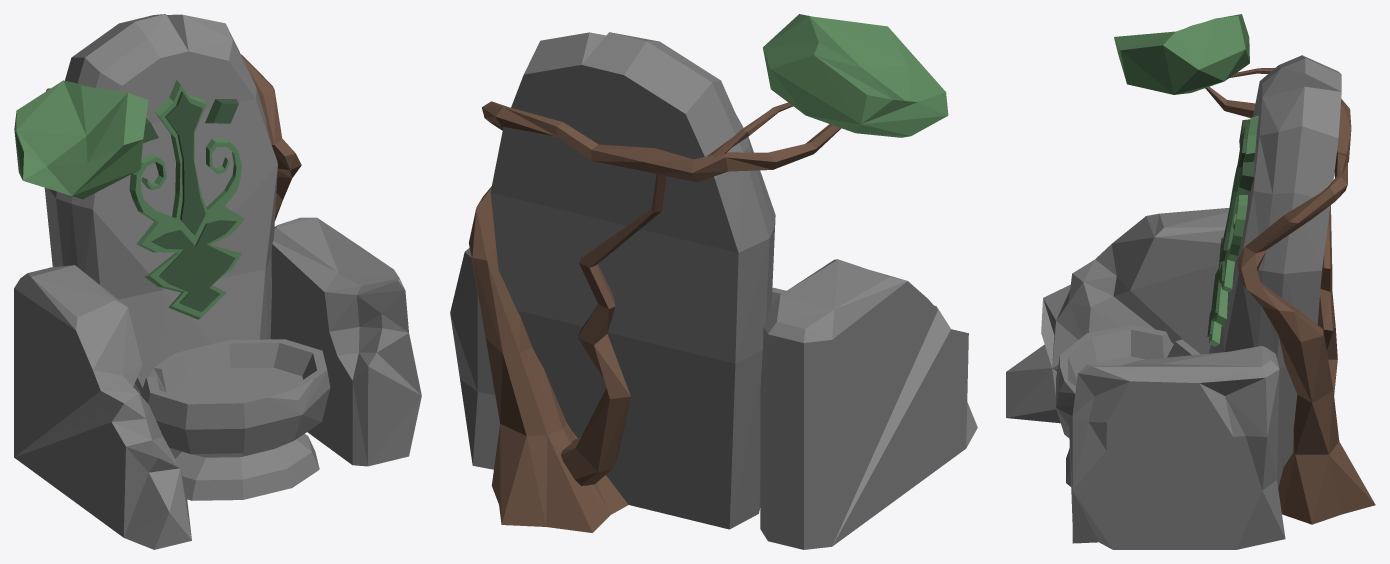
The model's file is _throne_1.fbx.
3 renders of one model, left to right at view 1: azimuth 30°, elevation 25°; view 2: azimuth 150°, elevation 25°; view 3: azimuth 270°, elevation 25°, orthographic. The views are drawn at different scales.
Visible parts, largest first — view 1: throne_1; view 2: throne_1; view 3: throne_1.
Part boxes in pixels (box(x1,y1,x2,y2)): throne_1: box(14, 14, 421, 549); throne_1: box(450, 14, 977, 549); throne_1: box(1006, 14, 1375, 549).
Bounding box in the file's own units: 182 × 190 × 157.
